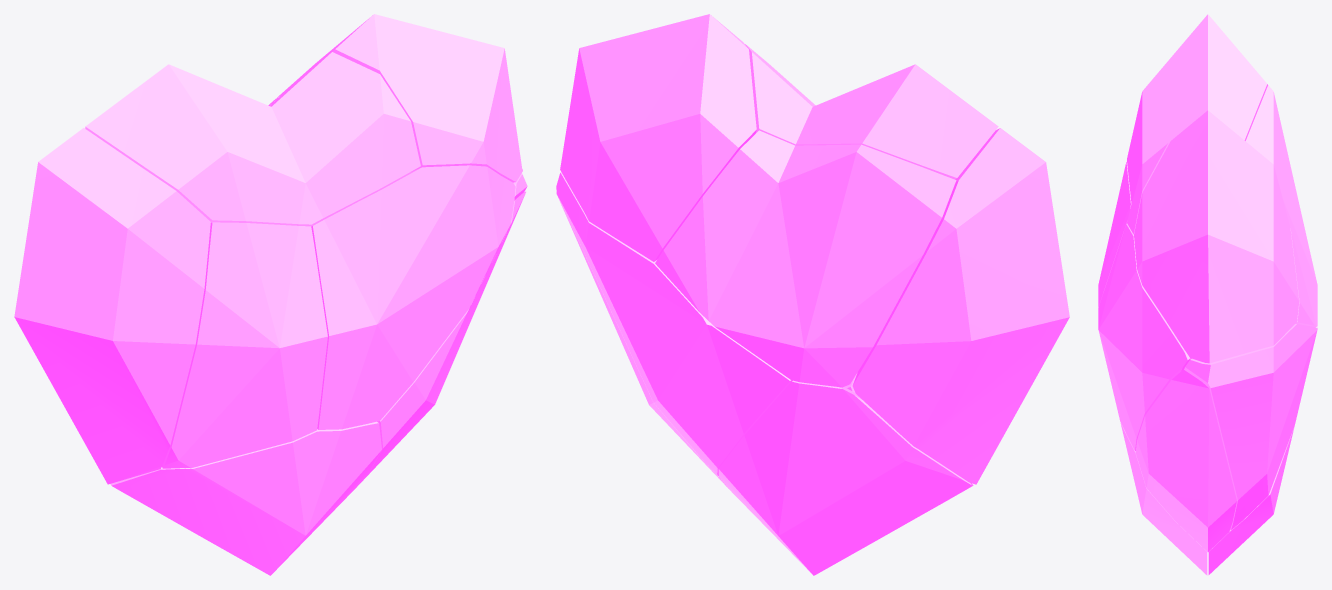
Rendered from Gem_Heart.fbx.
The picture shows the model from 3 angles, left to right: view 1: azimuth 30°, elevation 25°; view 2: azimuth 150°, elevation 25°; view 3: azimuth 270°, elevation 25°; orthographic projection. The views are drawn at different scales.
Visible parts, largest first — view 1: Gem_5_cell.008, Gem_5_cell.003, Gem_5_cell.002, Gem_5_cell, Gem_5_cell.005, Gem_5_cell.006, Gem_5_cell.004; view 2: Gem_5_cell.001, Gem_5_cell.008, Gem_5_cell.006, Gem_5_cell.009, Gem_5_cell.007, Gem_5_cell.003, Gem_5_cell.004; view 3: Gem_5_cell.006, Gem_5_cell.007, Gem_5_cell.004, Gem_5_cell.003, Gem_5_cell.002, Gem_5_cell.001, Gem_5_cell.005, Gem_5_cell.009, Gem_5_cell.
Boxes of the visible parts, x1,y1,x2,y2 form: Gem_5_cell.008: (14,128,210,484); Gem_5_cell.003: (85,52,420,225); Gem_5_cell.002: (306,165,515,429); Gem_5_cell: (162,222,327,468); Gem_5_cell.005: (111,421,381,575); Gem_5_cell.006: (277,14,522,182); Gem_5_cell.004: (355,191,525,488); Gem_5_cell.001: (655,130,956,387); Gem_5_cell.008: (852,128,1069,484); Gem_5_cell.006: (560,14,756,261); Gem_5_cell.009: (718,380,972,575); Gem_5_cell.007: (556,172,792,475); Gem_5_cell.003: (745,44,998,179); Gem_5_cell.004: (556,192,728,488); Gem_5_cell.006: (1134,110,1299,363); Gem_5_cell.007: (1184,324,1317,530); Gem_5_cell.004: (1135,369,1236,551); Gem_5_cell.003: (1127,14,1266,234); Gem_5_cell.002: (1098,223,1191,450); Gem_5_cell.001: (1244,84,1317,326); Gem_5_cell.005: (1120,423,1207,575); Gem_5_cell.009: (1208,426,1294,574); Gem_5_cell: (1098,160,1131,306).
Bounding box in the file's own units: 64.89 × 64.8 × 25.
